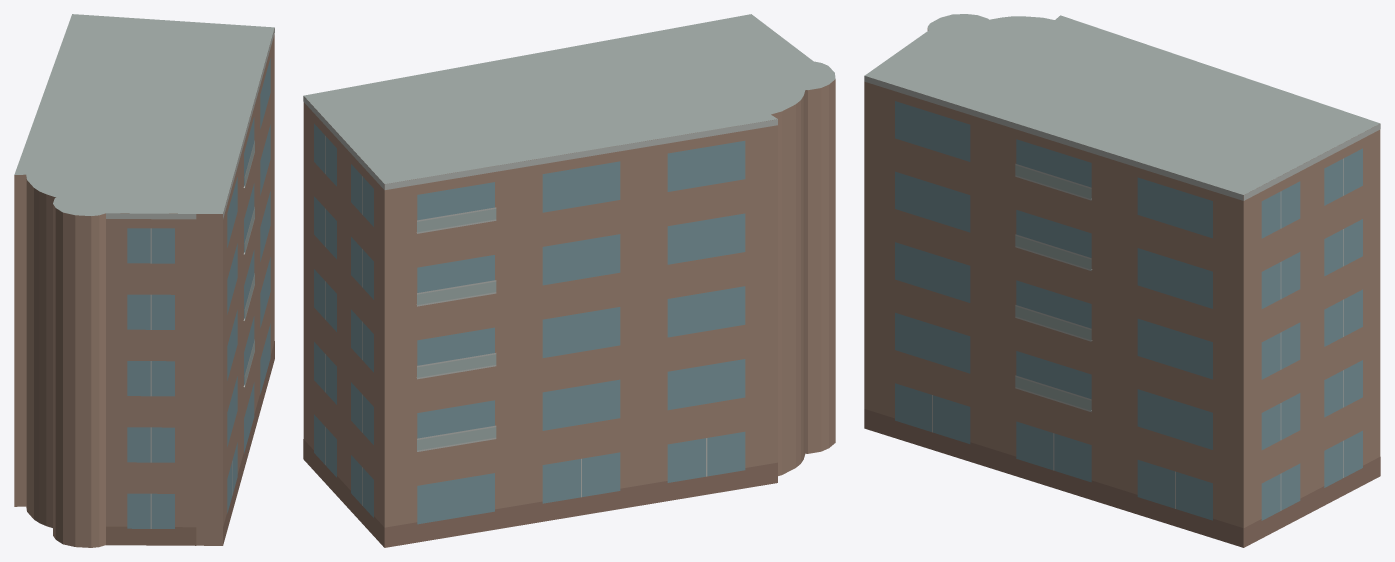
The model's file is survey-upis-32691830.glb.
The picture shows the model from 3 angles, left to right: view 1: azimuth 30°, elevation 25°; view 2: azimuth 150°, elevation 25°; view 3: azimuth 270°, elevation 25°; orthographic projection. The views are drawn at different scales.
Parts seen in each view (by area): view 1: survey-upis-32691830.tmp; view 2: survey-upis-32691830.tmp; view 3: survey-upis-32691830.tmp.
Part boxes in pixels (x1,y1,x2,y2): survey-upis-32691830.tmp: [14, 14, 274, 547]; survey-upis-32691830.tmp: [303, 14, 835, 547]; survey-upis-32691830.tmp: [864, 14, 1380, 547].
Bounding box in the file's own units: 16.08 × 14.6 × 19.36.
